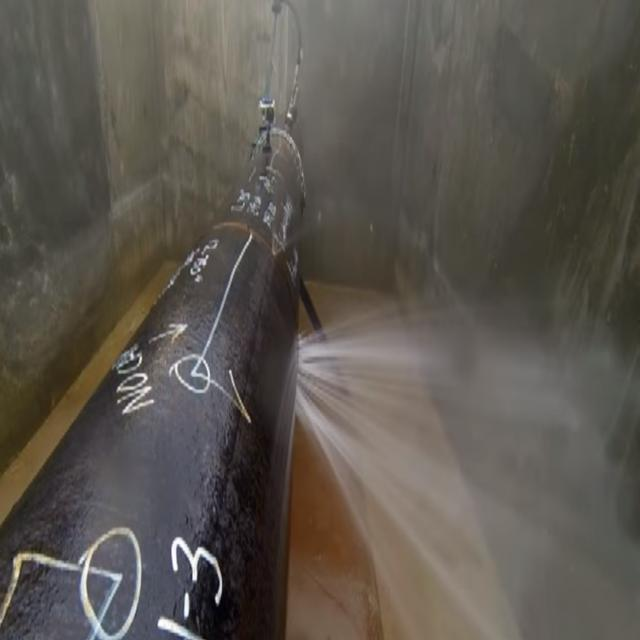leak: (296, 312, 640, 636)
